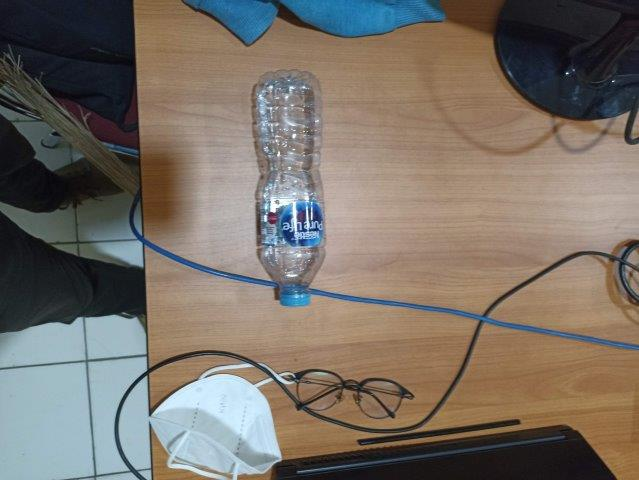botolplastik: (257, 69, 327, 304)
